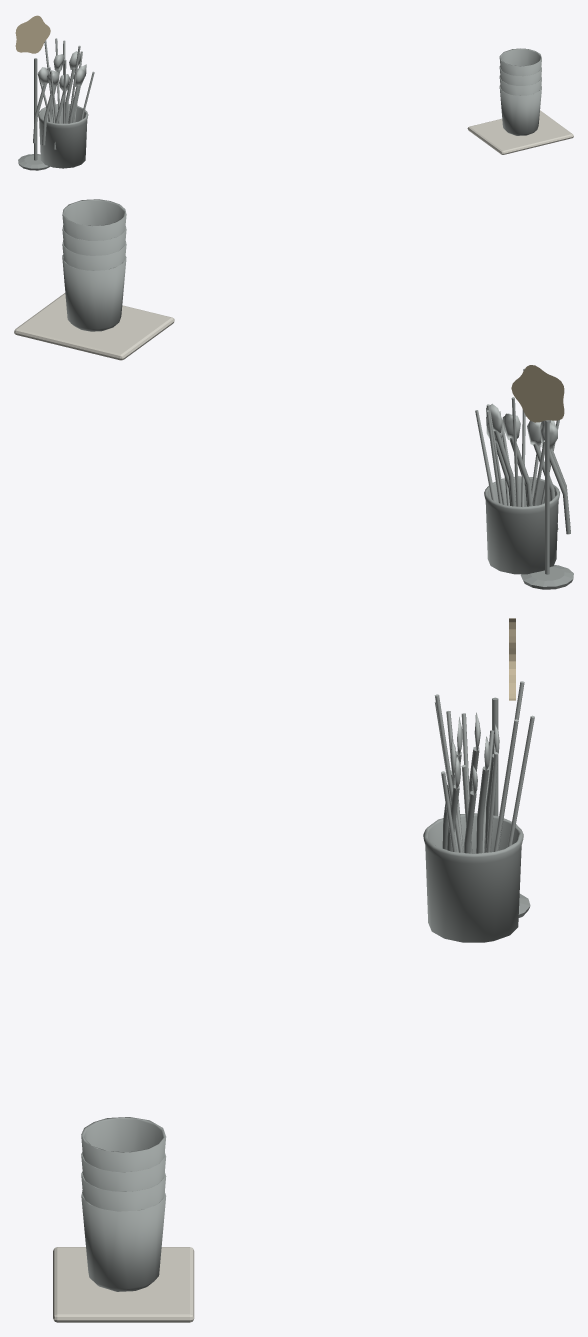
Rendered from tools.glb.
The picture shows the model from 3 angles, top to bottom: view 1: azimuth 30°, elevation 25°; view 2: azimuth 150°, elevation 25°; view 3: azimuth 270°, elevation 25°; orthographic projection. The views are drawn at different scales.
Visible parts, largest first — view 1: G010_tools; view 2: G010_tools; view 3: G010_tools.
Part boxes in pixels (x1,y1,x2,y2): G010_tools: (15, 15, 573, 170); G010_tools: (14, 199, 573, 589); G010_tools: (53, 618, 534, 1322).
Size of the model in its own units: 1.04 by 0.3223 by 0.4876.
